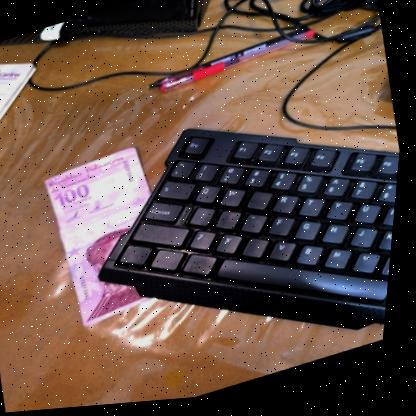vef_front: (35, 143, 186, 338)
